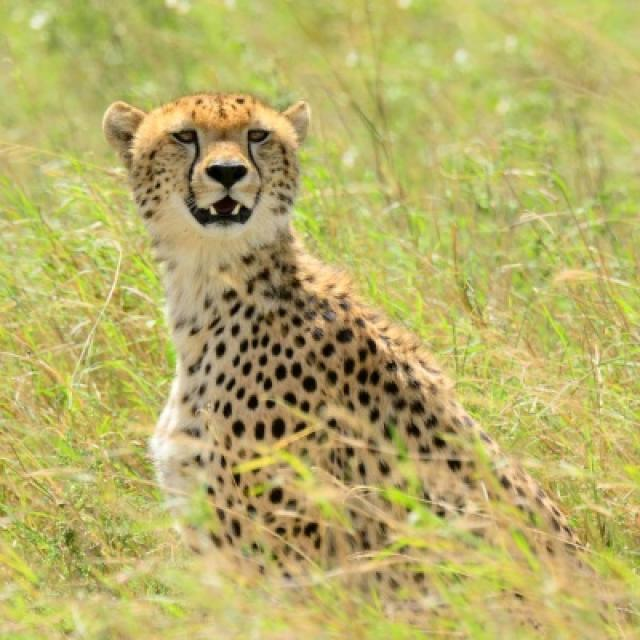Cheetah: (101, 93, 576, 554)
